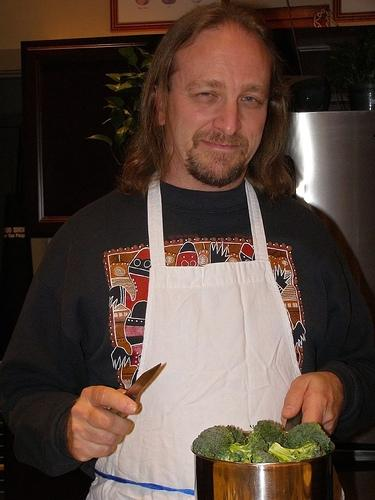broccoli: (192, 425, 248, 462), (278, 422, 330, 450), (268, 438, 323, 462), (229, 431, 268, 453), (254, 420, 282, 442), (252, 450, 279, 464)
